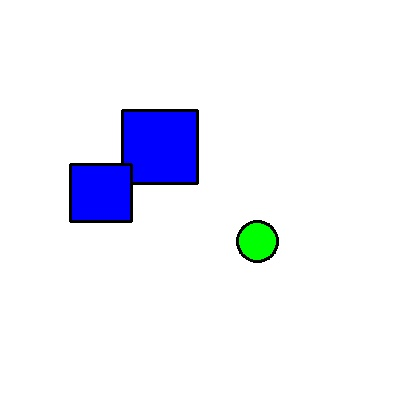circle: (237, 197, 278, 286)
rectangle: (122, 110, 197, 183), (70, 164, 131, 221)
